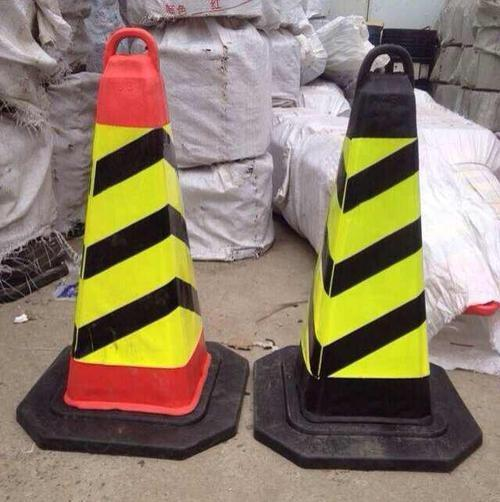cone_barrel: (40, 22, 233, 433), (267, 33, 455, 450)
